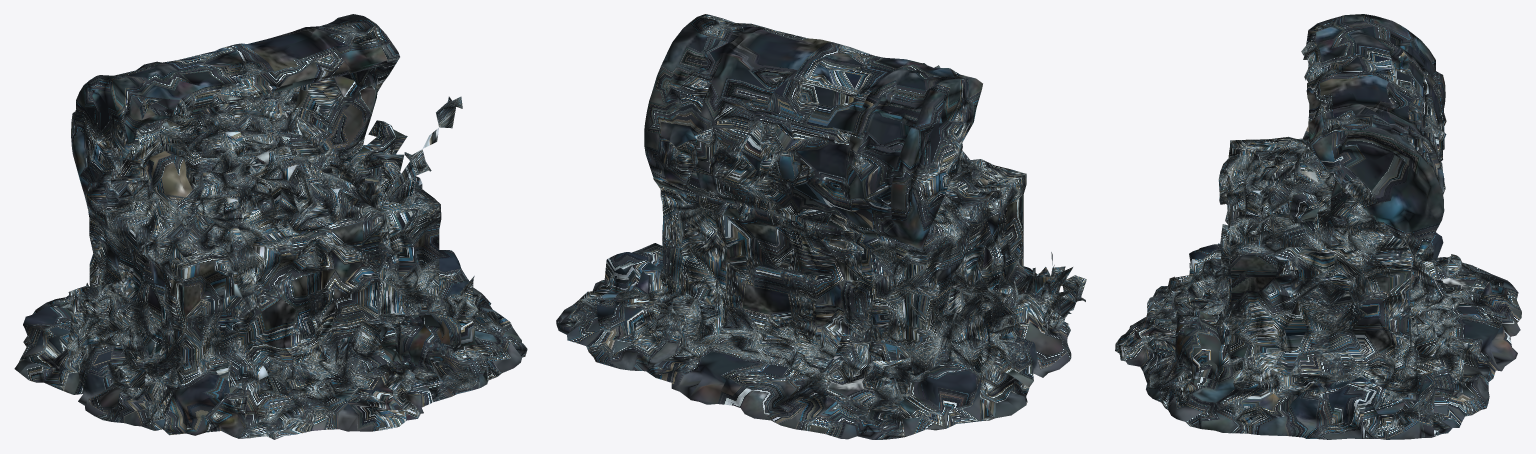
Rendered from chest.glb.
3 views of the same model, side by side, from view 1: azimuth 30°, elevation 25°; view 2: azimuth 150°, elevation 25°; view 3: azimuth 270°, elevation 25° (orthographic). The views are drawn at different scales.
Bounding box in the file's own units: 1.89 × 1.21 × 1.66.
1 material, 1 textured.
